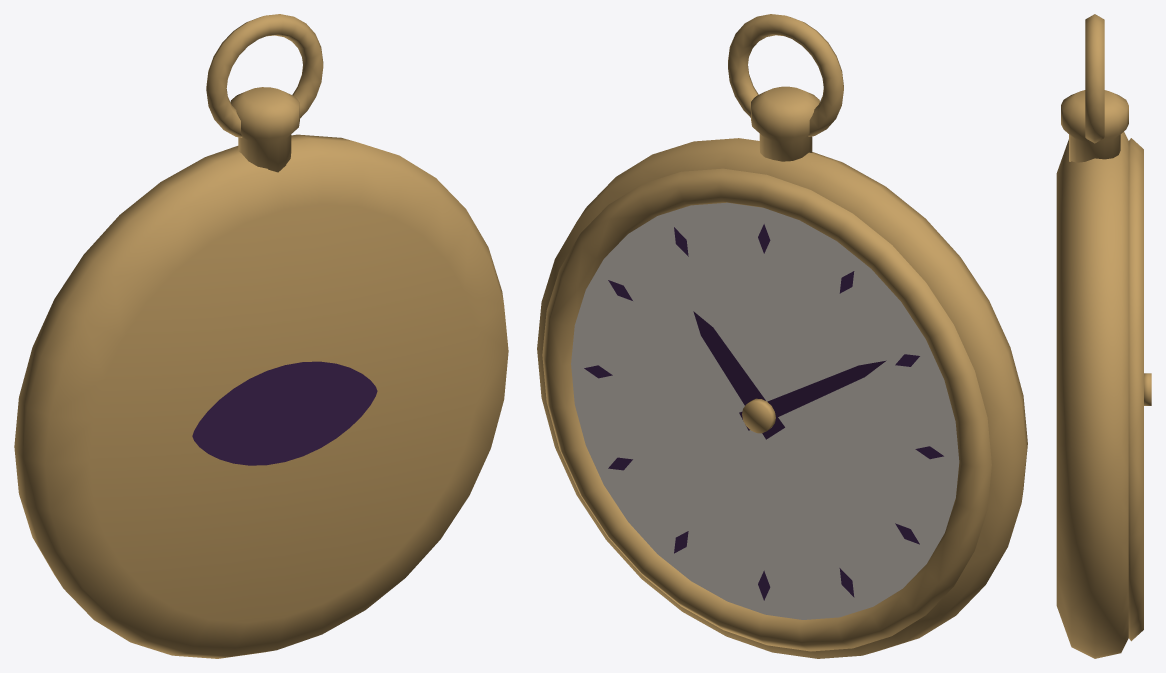
Rendered from pocket-watch.glb.
The picture shows the model from 3 angles, left to right: view 1: azimuth 30°, elevation 25°; view 2: azimuth 150°, elevation 25°; view 3: azimuth 270°, elevation 25°; orthographic projection. The views are drawn at different scales.
Visible parts, largest first — view 1: pocket_watch; view 2: pocket_watch; view 3: pocket_watch.
Part boxes in pixels (<box>): pocket_watch: <box>14,14,508,658</box>; pocket_watch: <box>537,14,1027,658</box>; pocket_watch: <box>1056,14,1151,658</box>.
Bounding box in the file's own units: 0.92 × 1.16 × 0.163.
